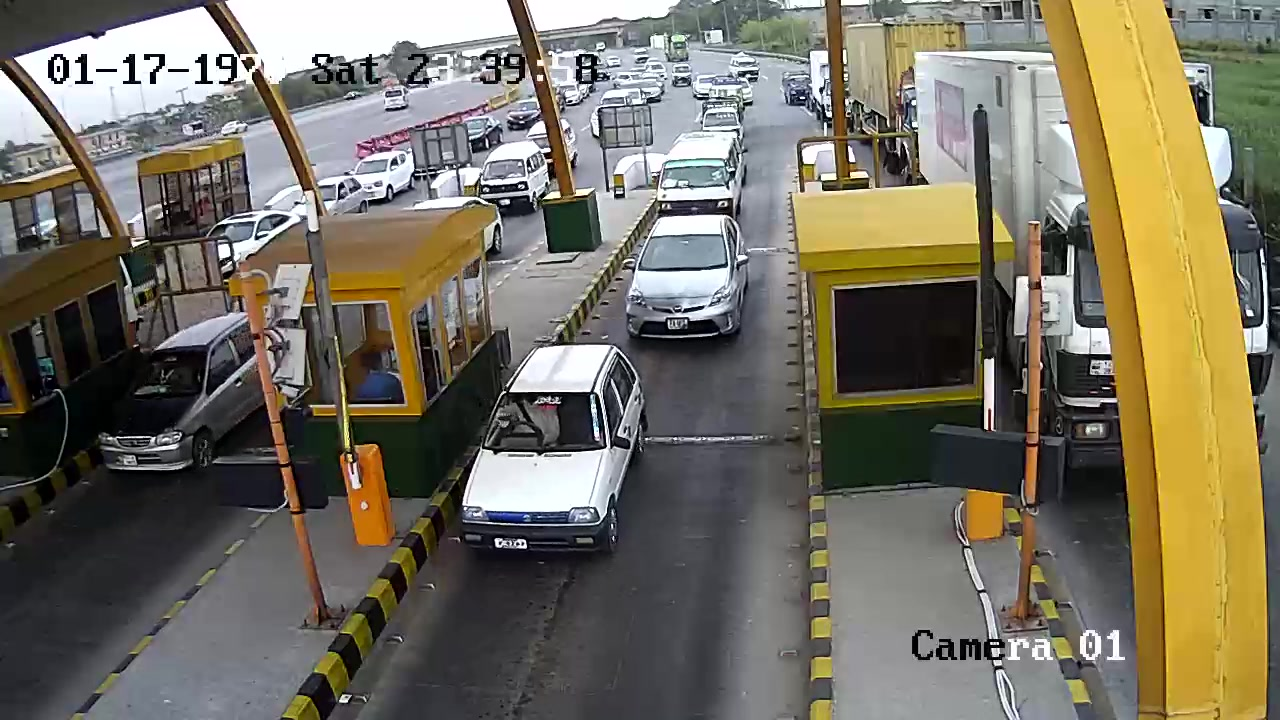F1: (454, 345, 682, 566), (613, 210, 757, 336)
